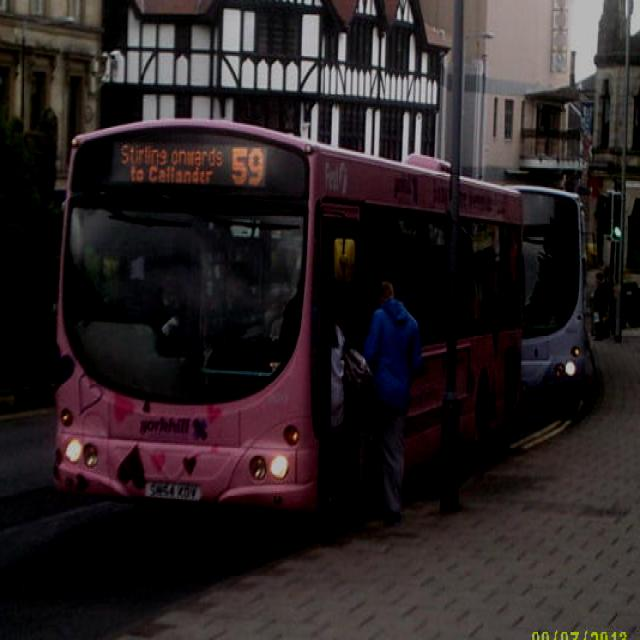Vehicle: (54, 118, 528, 516), (522, 190, 588, 414)
